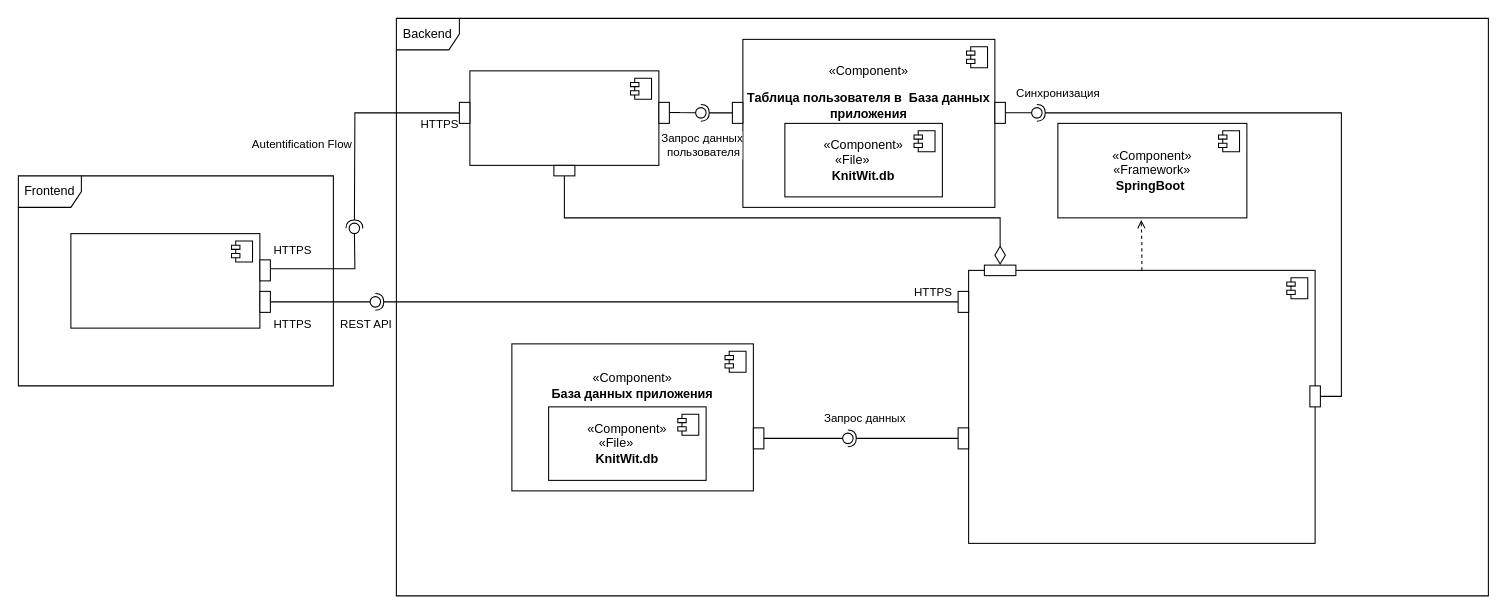
Some shapes in this 1507 by 614 pixel diagram are drawn without their labels. Here are the shapes that lost their labels. From the top down, the box of each, then its label:
(469, 70, 659, 165): «Component» Авторизация и аутентификация
(70, 233, 260, 328): «Component» Клиентское приложение
(968, 269, 1315, 543): «Component» KnitWit
